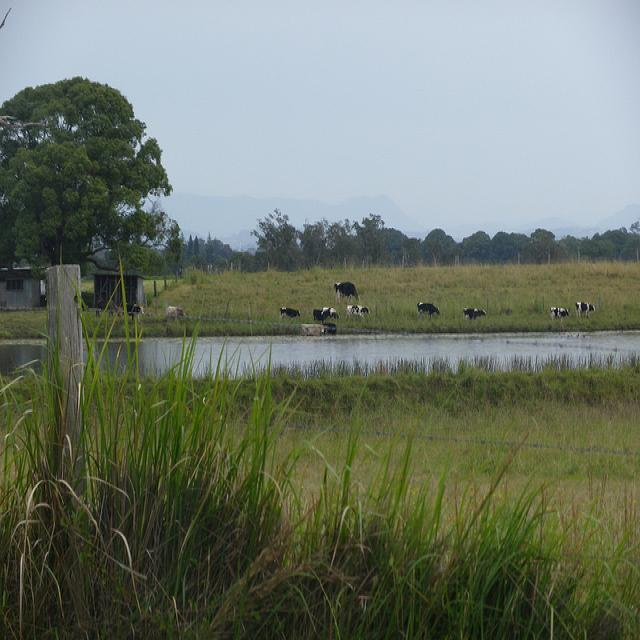cow: (332, 279, 359, 303), (549, 304, 569, 331), (310, 304, 337, 323), (278, 306, 300, 322), (416, 300, 439, 315), (345, 303, 369, 317), (573, 300, 594, 316), (472, 307, 485, 319), (165, 304, 182, 313), (130, 303, 143, 311)
